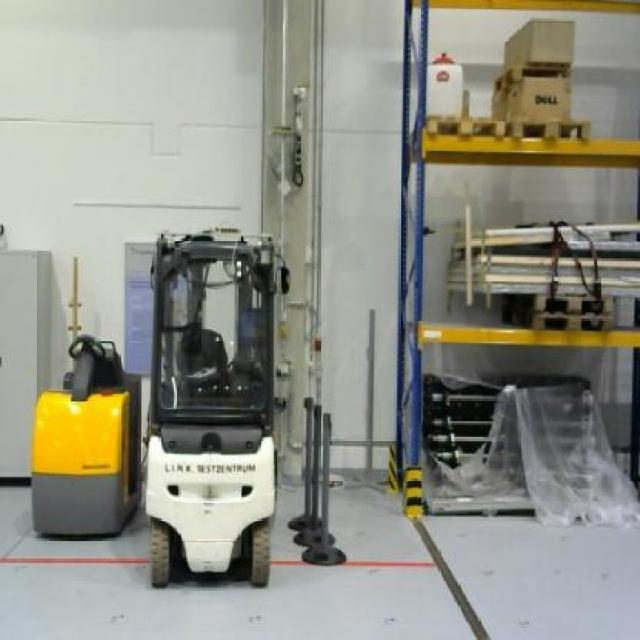box: (493, 76, 570, 122), (502, 16, 573, 64)
